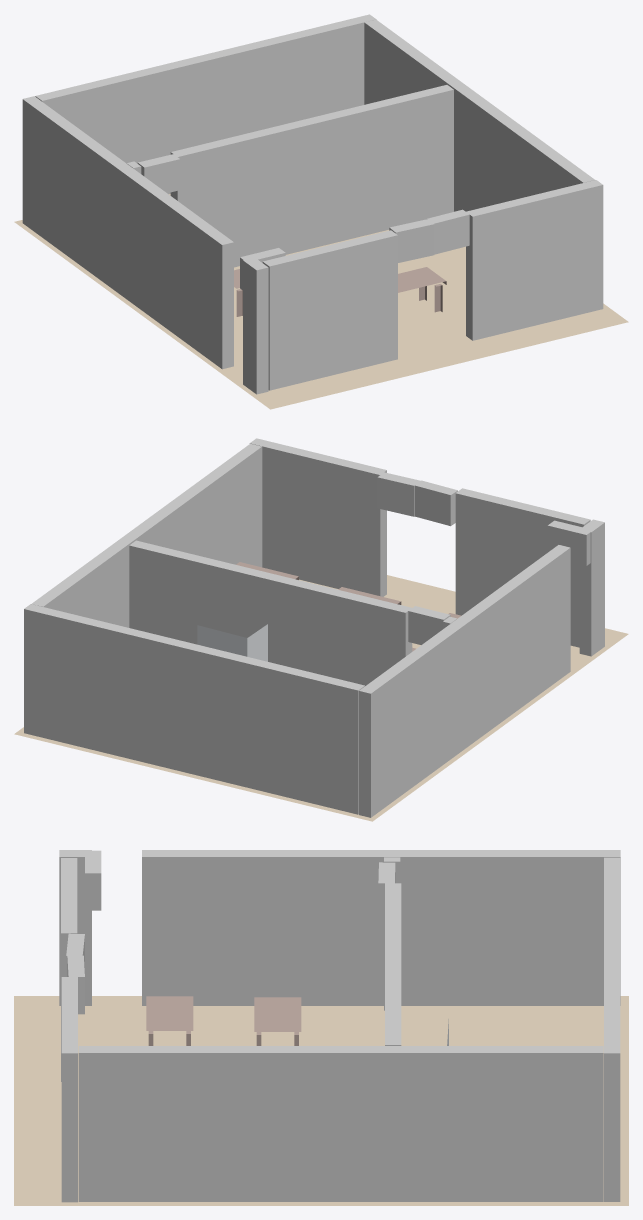
The picture shows the model from 3 angles, top to bottom: view 1: azimuth 30°, elevation 25°; view 2: azimuth 150°, elevation 25°; view 3: azimuth 270°, elevation 25°; orthographic projection. The views are drawn at different scales.
Parts seen in each view (by area): view 1: wall_8, wall_4, wall_5, wall_3, wall_1, floor, wall_6, wall_2, door_lintel_1, door_lintel_2, door_lintel_4, ocr_dining_table_2; view 2: wall_5, wall_4, wall_8, wall_3, wall_6, wall_1, floor, wall_2, ocr_refrigerator_7, door_lintel_1, door_lintel_2, door_lintel_3 (+1 smaller); view 3: wall_6, wall_4, floor, wall_5, wall_3, wall_8, ocr_dining_table_1, wall_2, ocr_dining_table_4, wall_1, door_lintel_3, door_lintel_2 (+1 smaller).
Part boxes in pixels (bbox=[...]): wall_8: bbox=[170, 85, 453, 267]; wall_4: bbox=[22, 96, 233, 369]; wall_5: bbox=[35, 14, 376, 194]; wall_3: bbox=[466, 180, 603, 340]; wall_1: bbox=[262, 230, 397, 390]; floor: bbox=[14, 194, 628, 409]; wall_6: bbox=[364, 19, 594, 211]; wall_2: bbox=[243, 257, 268, 394]; door_lintel_1: bbox=[389, 219, 434, 262]; door_lintel_2: bbox=[427, 209, 469, 254]; door_lintel_4: bbox=[137, 154, 180, 193]; ocr_dining_table_2: bbox=[398, 267, 446, 312]; wall_5: bbox=[24, 604, 364, 814]; wall_4: bbox=[359, 545, 570, 817]; wall_8: bbox=[129, 540, 412, 685]; wall_3: bbox=[249, 438, 386, 596]; wall_6: bbox=[32, 443, 262, 627]; wall_1: bbox=[455, 488, 590, 647]; floor: bbox=[14, 575, 628, 821]; wall_2: bbox=[579, 519, 604, 656]; ocr_refrigerator_7: bbox=[197, 624, 267, 661]; door_lintel_1: bbox=[414, 480, 457, 526]; door_lintel_2: bbox=[377, 472, 420, 516]; door_lintel_3: bbox=[547, 520, 592, 565]; wall_6: bbox=[78, 1046, 603, 1201]; wall_4: bbox=[142, 850, 620, 1005]; floor: bbox=[14, 996, 628, 1205]; wall_5: bbox=[604, 857, 620, 1201]; wall_3: bbox=[61, 977, 77, 1202]; wall_8: bbox=[385, 883, 401, 1045]; ocr_dining_table_1: bbox=[146, 996, 193, 1045]; wall_2: bbox=[59, 850, 91, 1005]; ocr_dining_table_4: bbox=[254, 997, 301, 1045]; wall_1: bbox=[61, 858, 77, 1081]; door_lintel_3: bbox=[85, 850, 101, 910]; door_lintel_2: bbox=[67, 955, 84, 1014].
Size of the model in its own units: 8.46 by 2.8 by 10.48.
